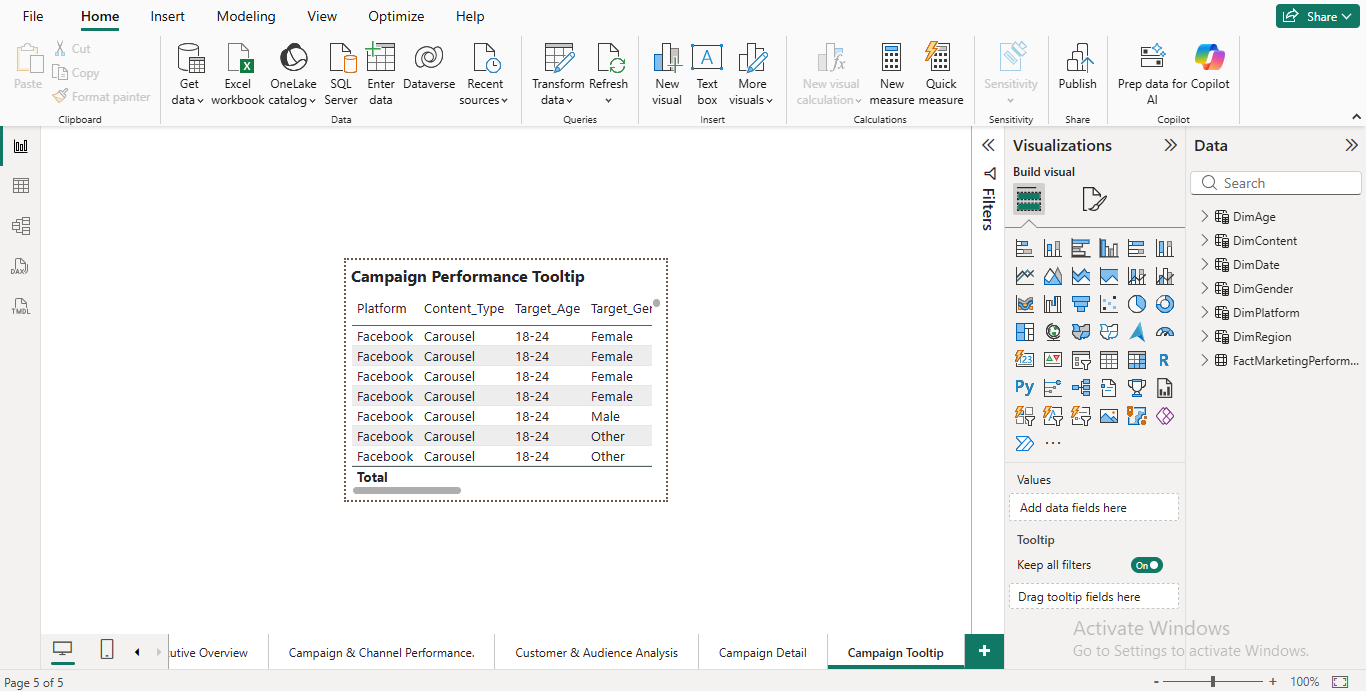

This screenshot's page, from the dashboard's own definition file:
{"tool":"powerbi","page":{"name":"Campaign Tooltip","canvas":[320,240],"ordinal":4},"visuals":[{"type":"textbox","box":[0,0,290,33],"z":0},{"type":"tableEx","fields":{"Values":["FactMarketingPerformance.Platform","FactMarketingPerformance.Content_Type","FactMarketingPerformance.Target_Age","FactMarketingPerformance.Target_Gender","FactMarketingPerformance.Region","FactMarketingPerformance.Total Spend","FactMarketingPerformance.Total Revenue","FactMarketingPerformance.Total Conversions","FactMarketingPerformance.CPA","FactMarketingPerformance.ROAS"]},"box":[0,33,320,207],"z":1000}]}

Visuals, with their boxes on the page's 320x240 design canvas (x1, y1, x2, y2). These are canvas units, not pixel positions in the 1366x691 screenshot, which may show the page scaled, cropped or inside an application window:
textbox: (0, 0, 290, 33)
tableEx - FactMarketingPerformance.Platform x FactMarketingPerformance.Content_Type: (0, 33, 320, 240)
